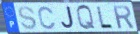C: (37, 5, 57, 30)
J: (61, 6, 76, 30)
L: (95, 6, 115, 30)
Q: (75, 4, 97, 31)
R: (111, 5, 136, 30)
S: (17, 5, 38, 31)
